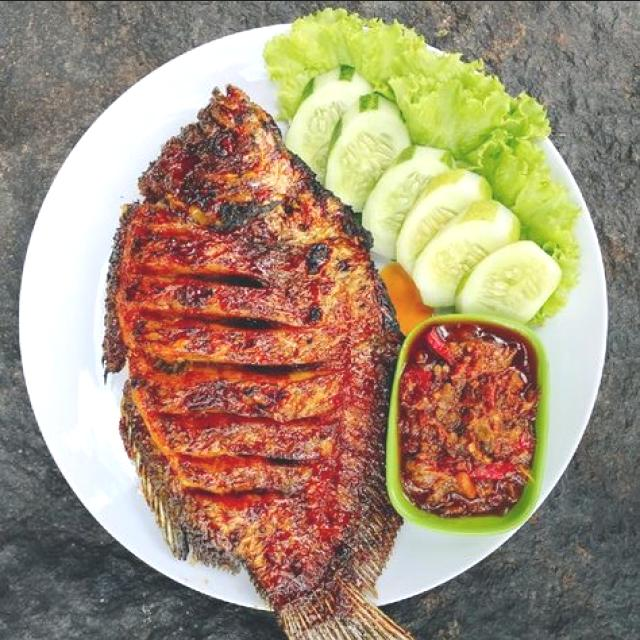ikan bakar: (104, 85, 417, 640)
